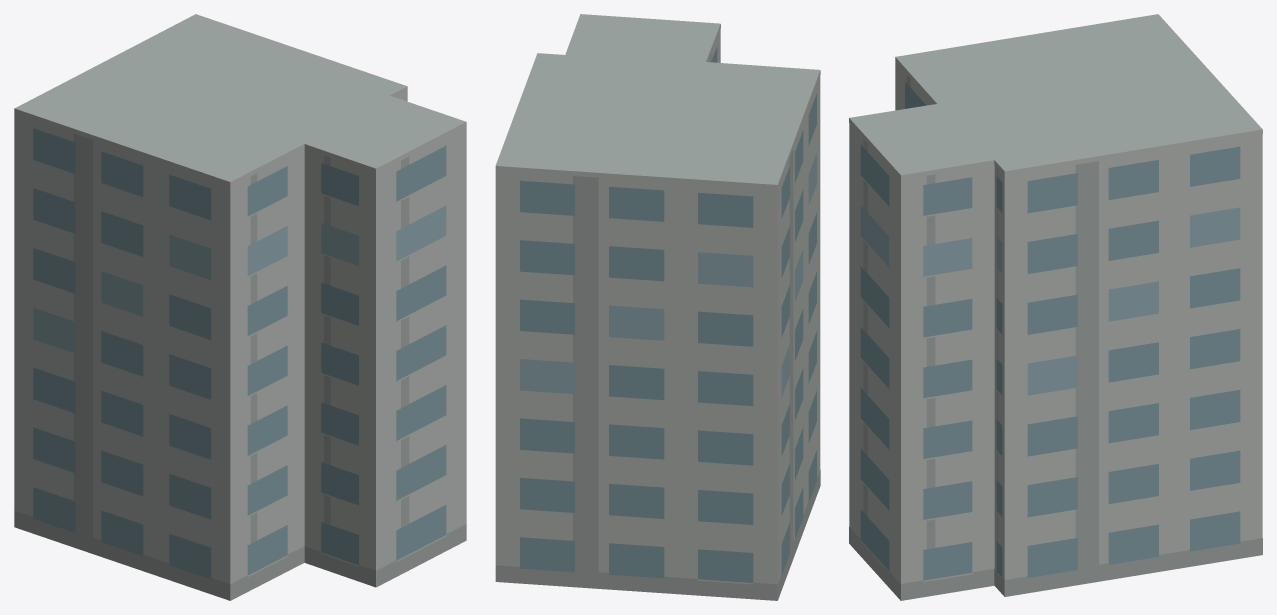
File: survey-upis-32764292.glb
The picture shows the model from 3 angles, left to right: view 1: azimuth 30°, elevation 25°; view 2: azimuth 150°, elevation 25°; view 3: azimuth 270°, elevation 25°; orthographic projection. The views are drawn at different scales.
Visible parts, largest first — view 1: survey-upis-32764292.tmp; view 2: survey-upis-32764292.tmp; view 3: survey-upis-32764292.tmp.
Part boxes in pixels (bbox=[...]): survey-upis-32764292.tmp: bbox=[14, 14, 466, 600]; survey-upis-32764292.tmp: bbox=[495, 14, 820, 600]; survey-upis-32764292.tmp: bbox=[849, 14, 1262, 600].
Bounding box in the file's own units: 17.24 × 21.2 × 18.69.
